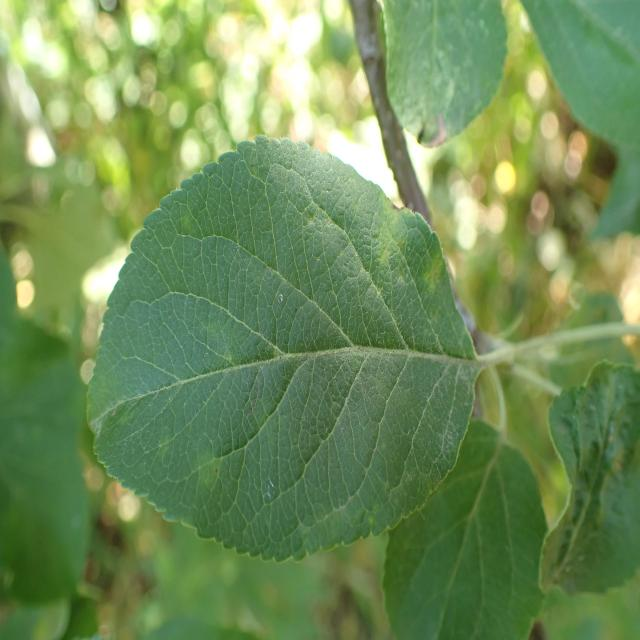scab: (142, 175, 469, 536)
